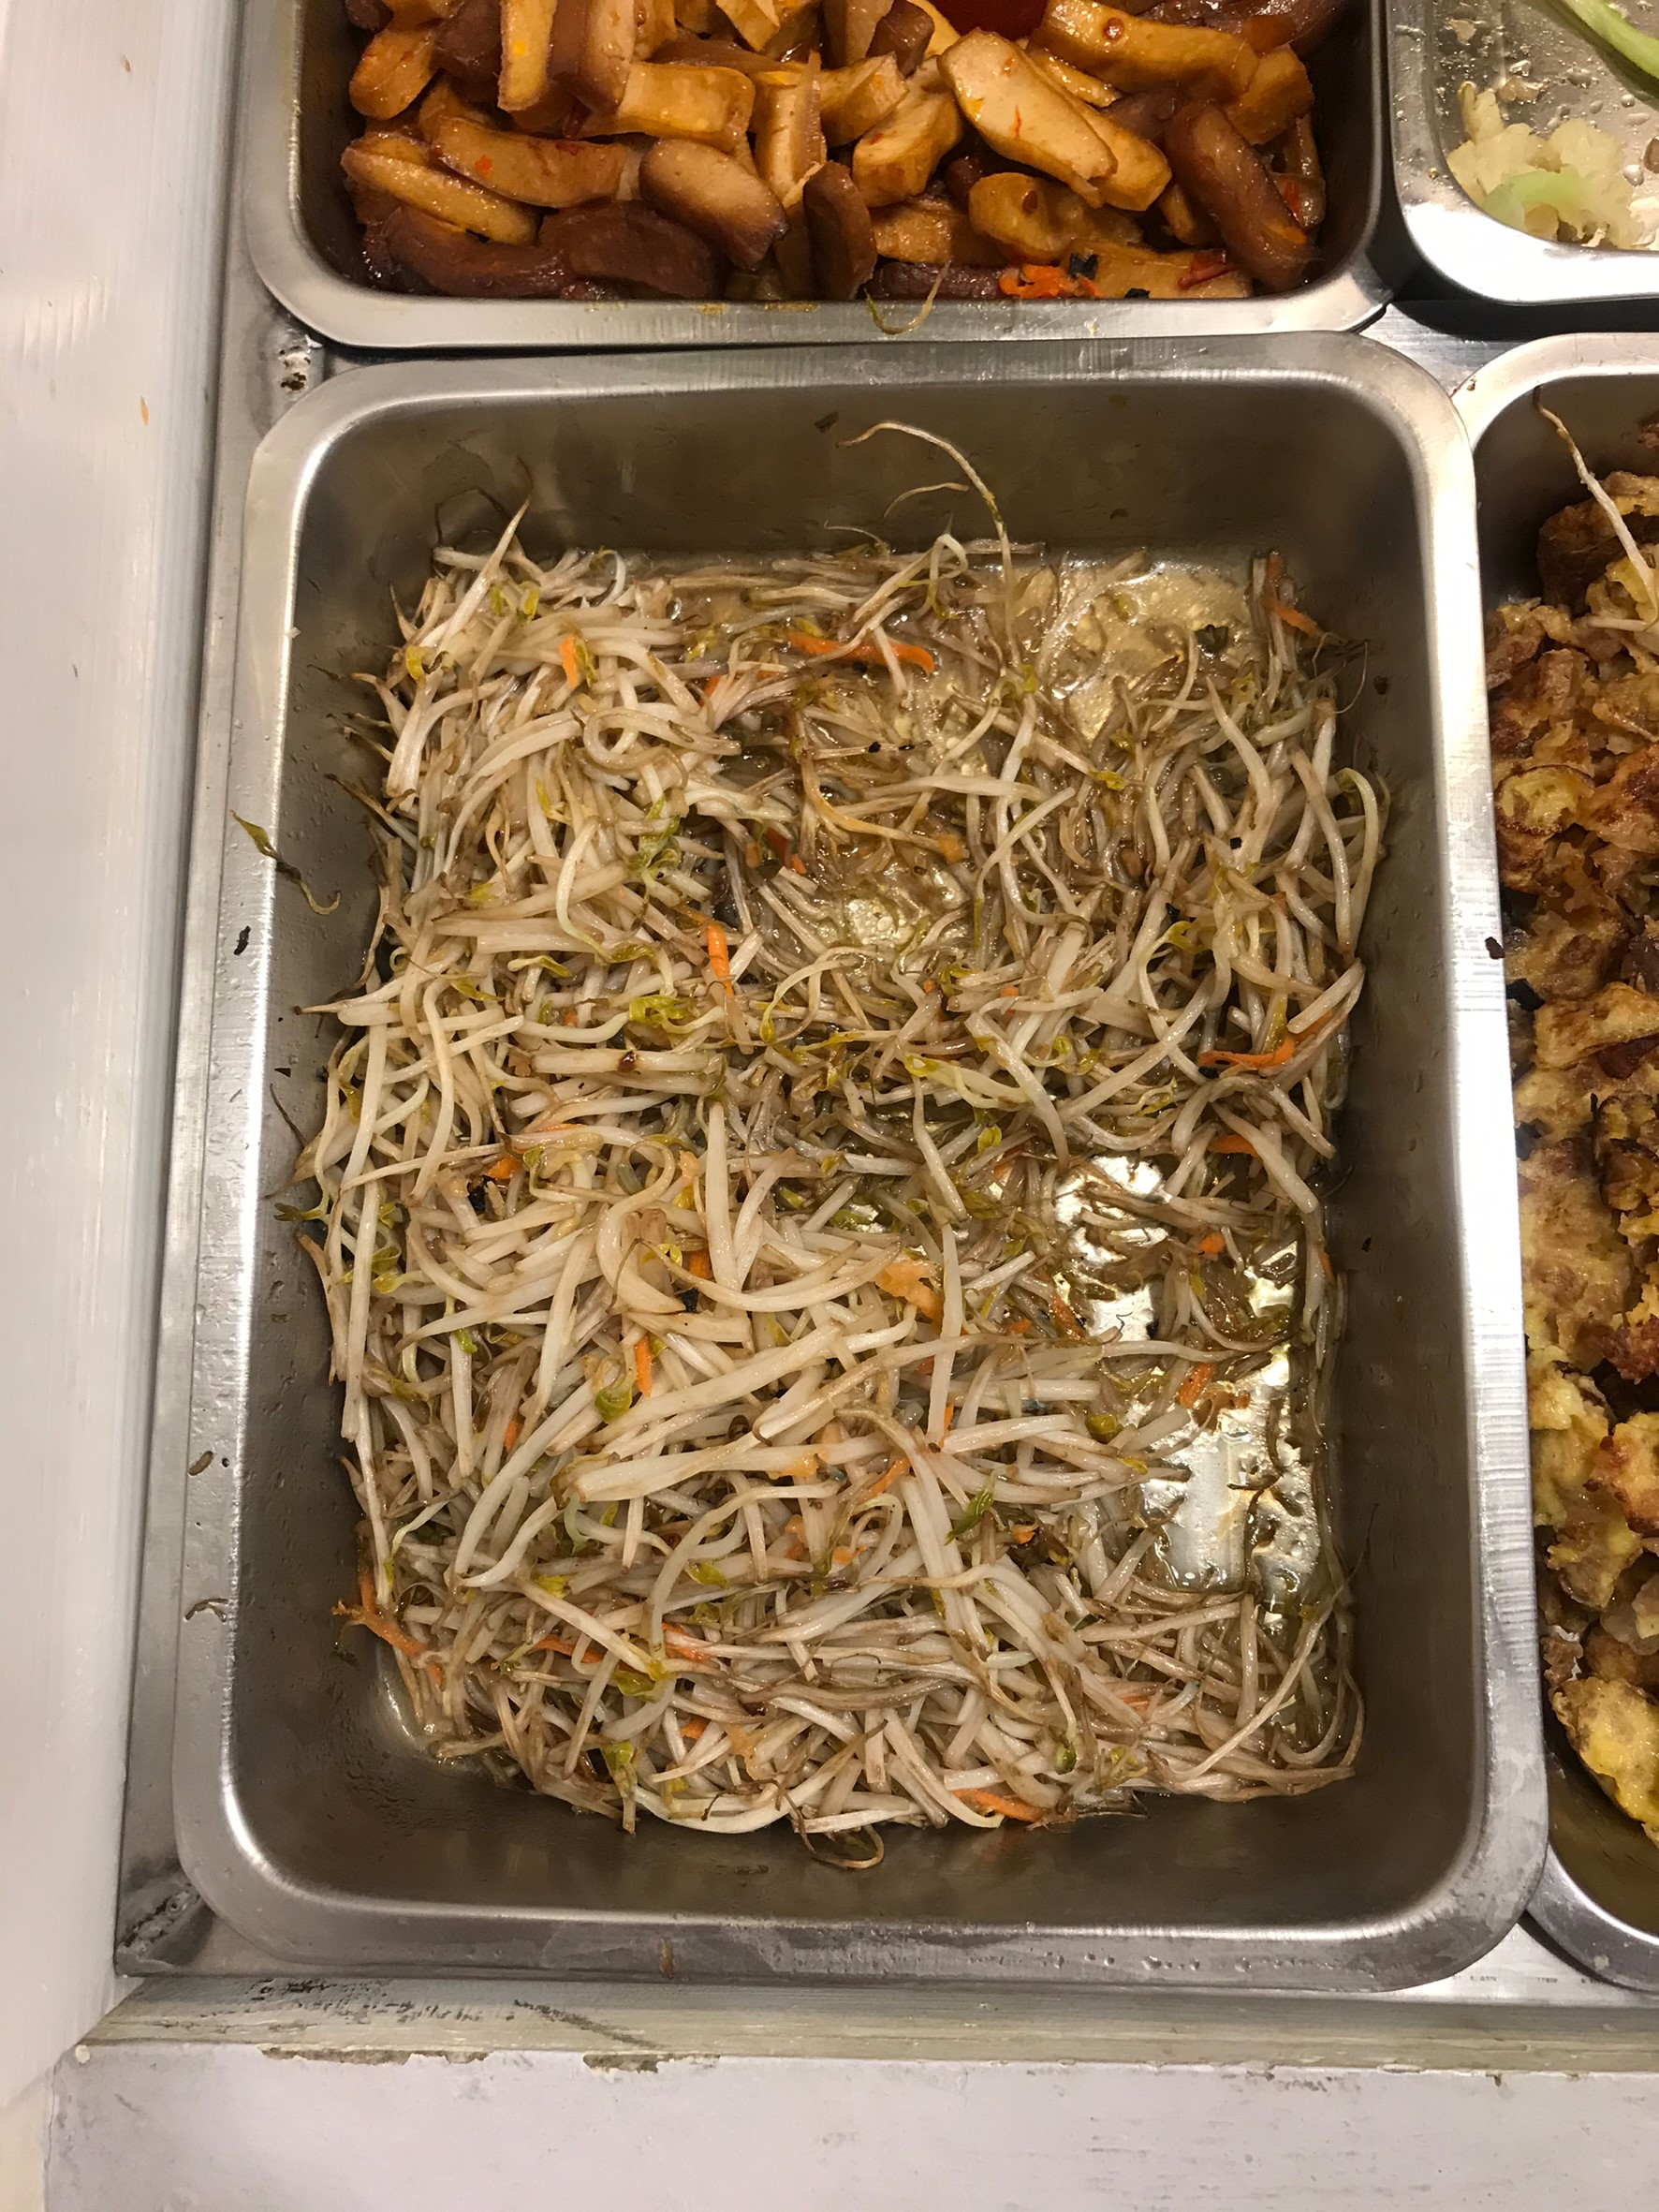mung_bean_sprouts: (300, 553, 1349, 1816)
